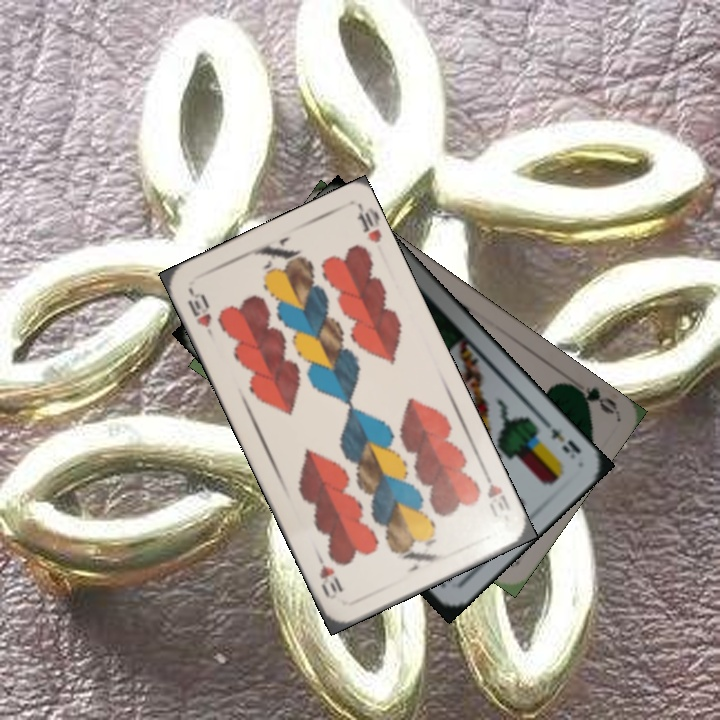EK: (538, 414, 585, 462)
GO: (562, 379, 619, 417)
H10: (183, 286, 218, 342), (479, 467, 514, 520)
